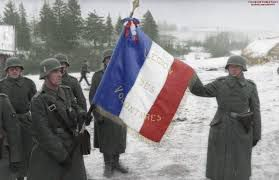French Flag: (93, 24, 195, 140)
